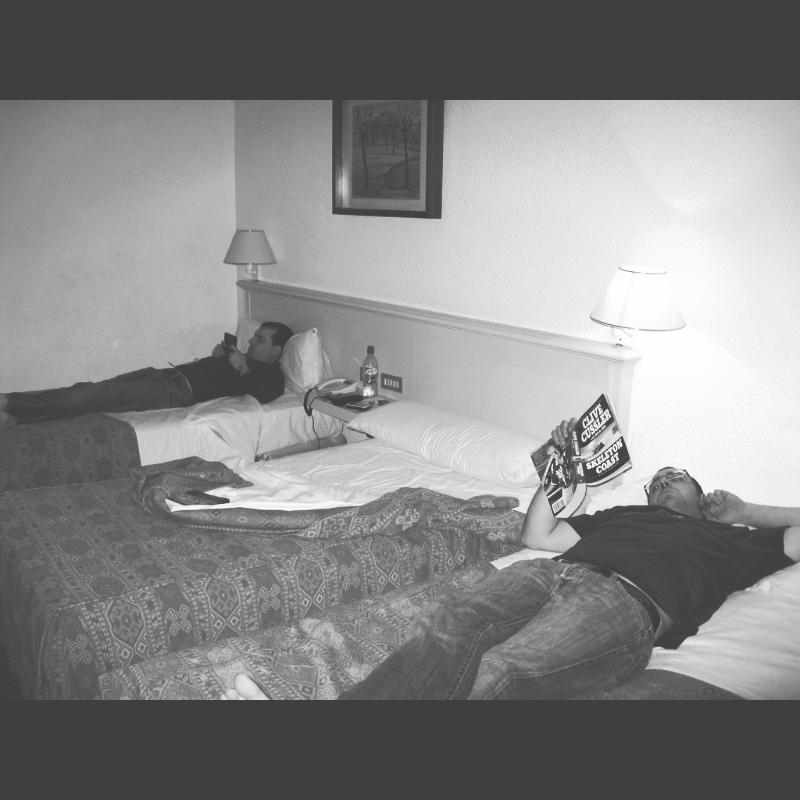pillow: (343, 399, 537, 490), (232, 322, 318, 404)
